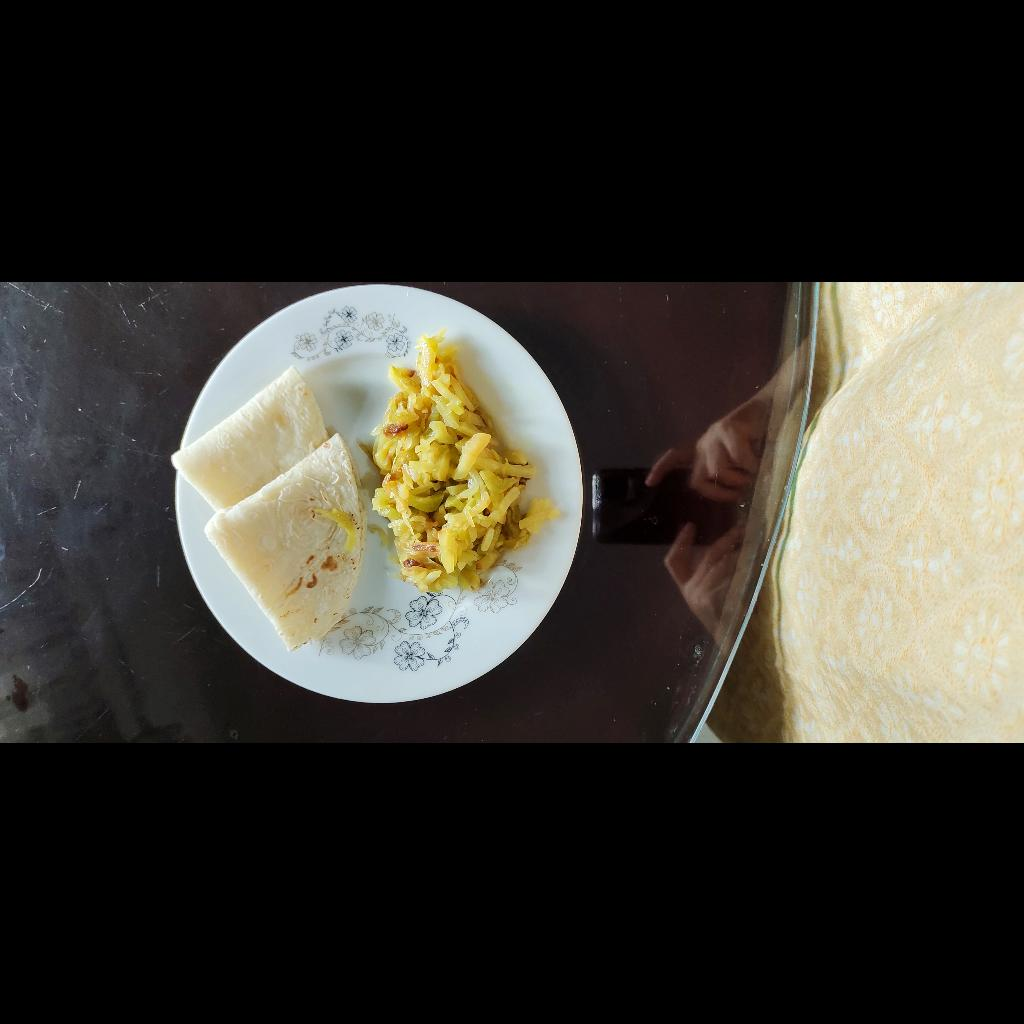potato: (149, 635, 411, 834)
ruti: (94, 447, 378, 648)
